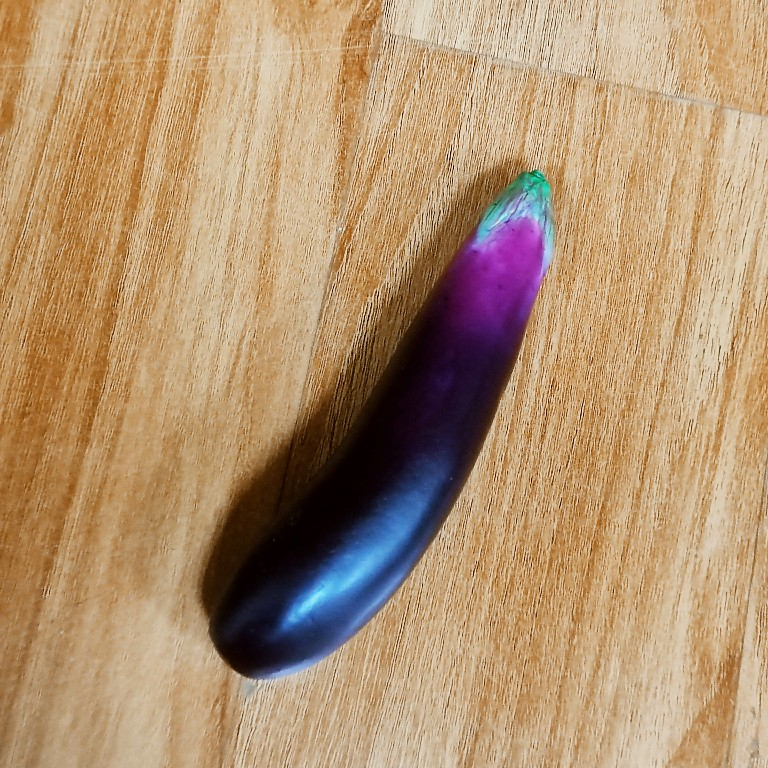fruit_eggplant: (206, 163, 559, 686)
